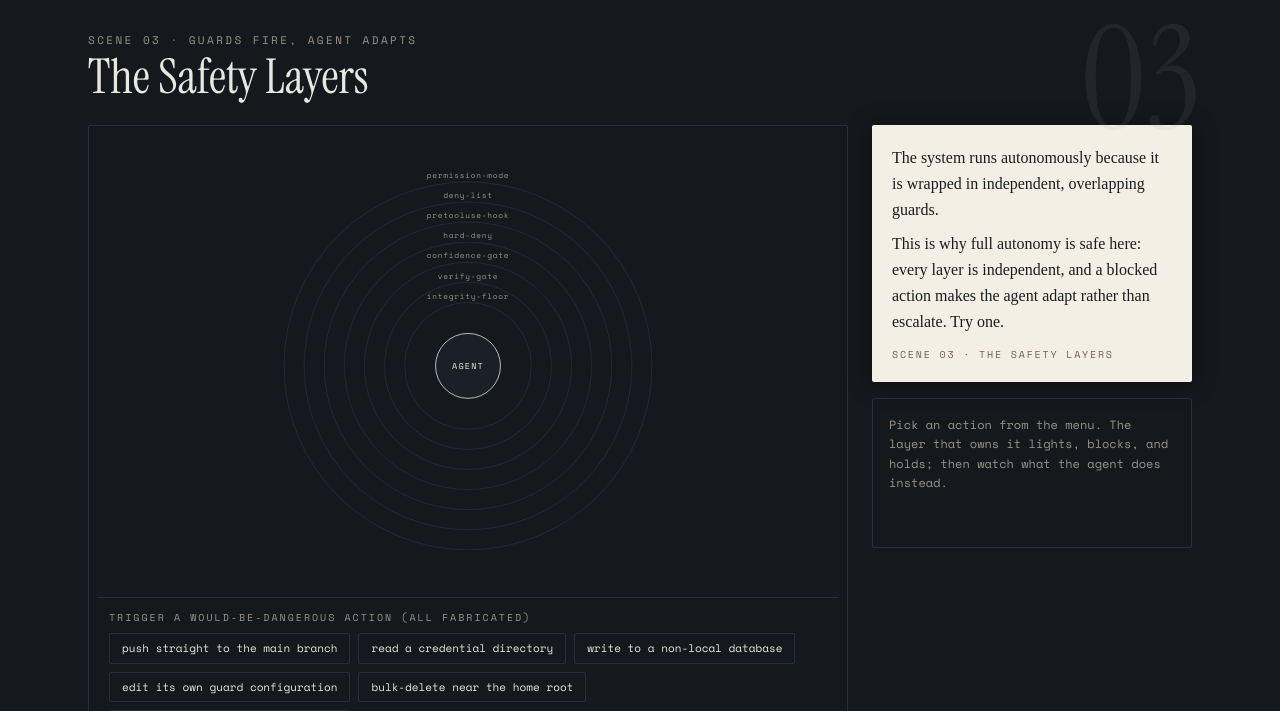
SafetyScene guard triggers › non-local-db-write is blocked at its mapped layer and the agent adapts
What coordinates should you click on to do the following:
click the button "write to a non-local database"
I would click on:
 (685, 649)
Its box is x1=574 y1=633 x2=795 y2=664.
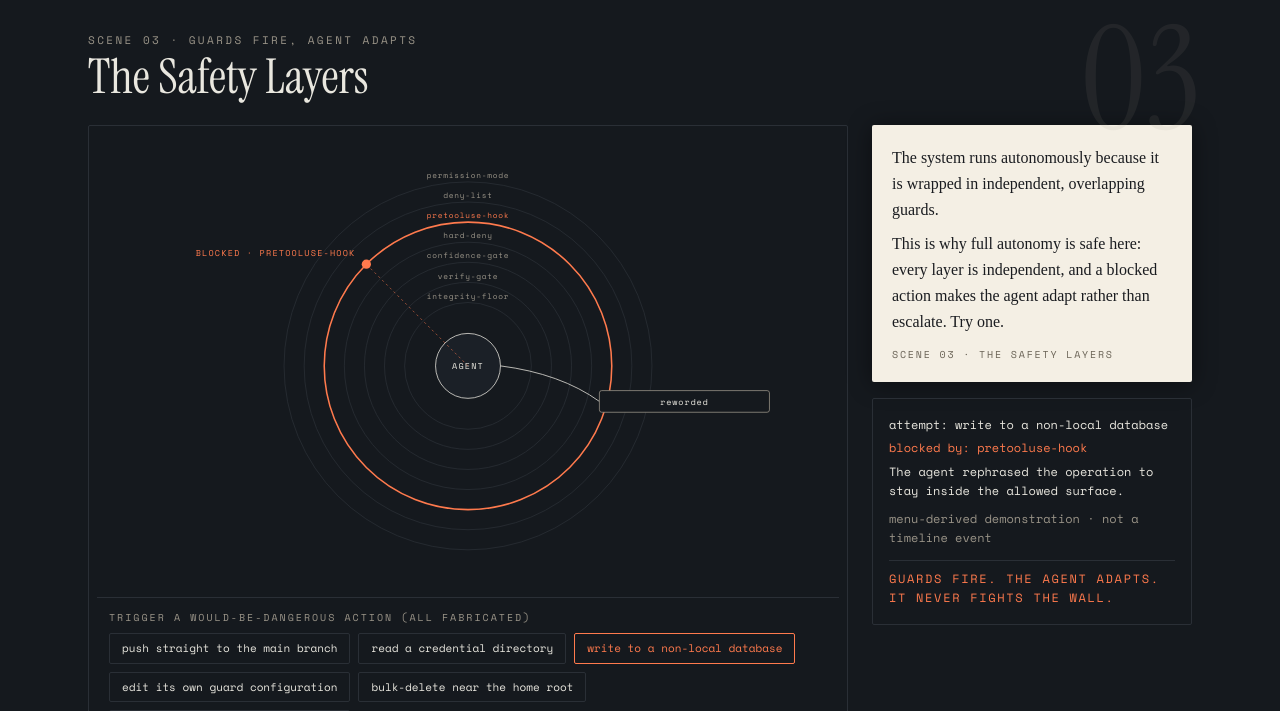
Expected: the element with test id "adaptation" is shown, x1=660 y1=394 x2=709 y2=407
Expected: the text "Guards fire. The agent adapts. It never fights the wall." is shown, x1=889 y1=560 x2=1175 y2=608
